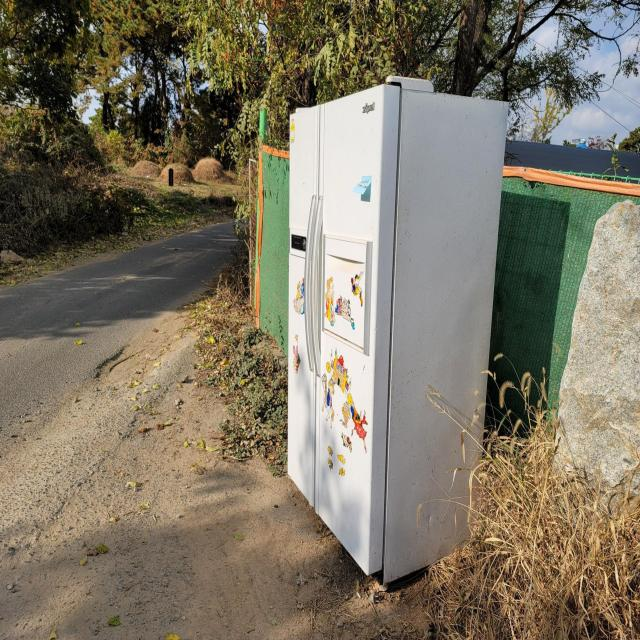refrigerator: (286, 74, 509, 593)
